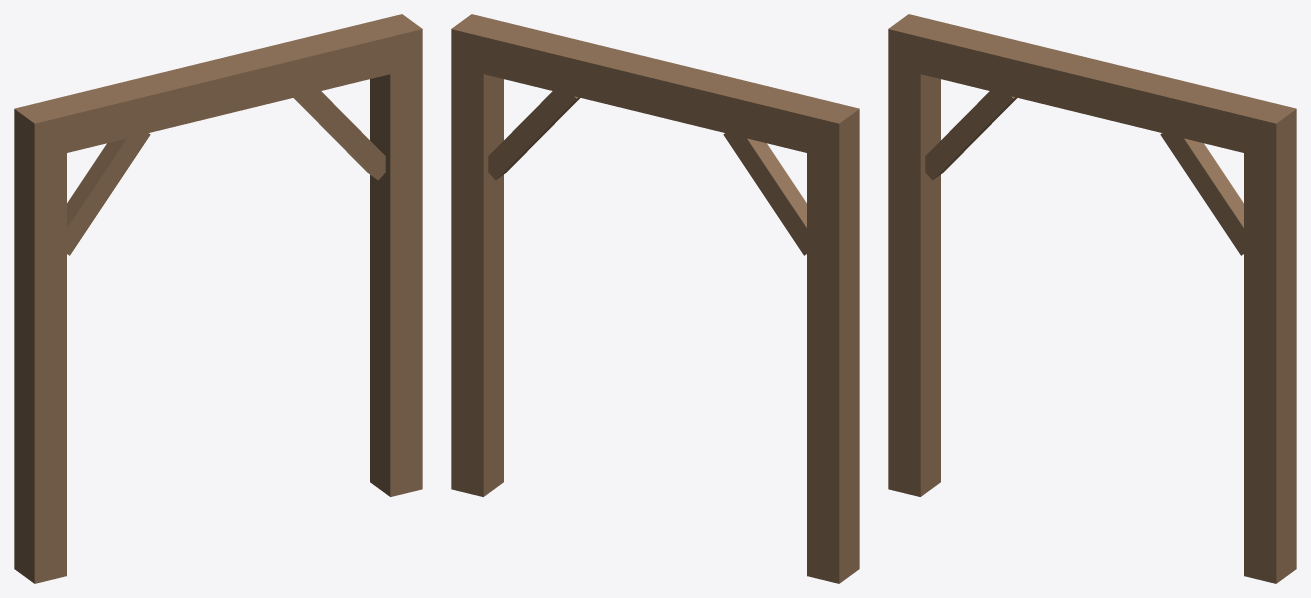
The model's file is bank-vault-heist-kit-tunnel-shaft-support-4b62b347__25139.glb.
3 renders of one model, left to right at view 1: azimuth 30°, elevation 25°; view 2: azimuth 150°, elevation 25°; view 3: azimuth 330°, elevation 25°, orthographic.
Visible parts, largest first — view 1: tunnel-shaft-support; view 2: tunnel-shaft-support; view 3: tunnel-shaft-support.
Boxes of the visible parts, bbox=[...] form: tunnel-shaft-support: bbox=[14, 14, 422, 583]; tunnel-shaft-support: bbox=[451, 14, 859, 583]; tunnel-shaft-support: bbox=[888, 14, 1296, 583].
Bounding box in the file's own units: 2.4 × 2.72 × 0.2201.
